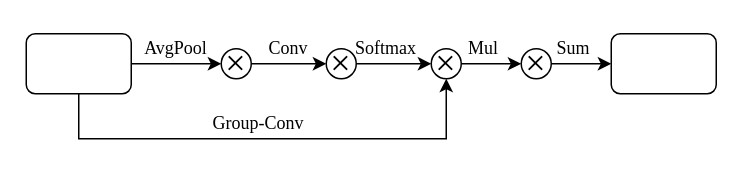
The diagram is 743 pixels wide and 177 high, and some of its shapes have lost their labels. Each missing label, with the centre of its shape:
"input" belongs at (78,63).
"output" belongs at (663,63).
